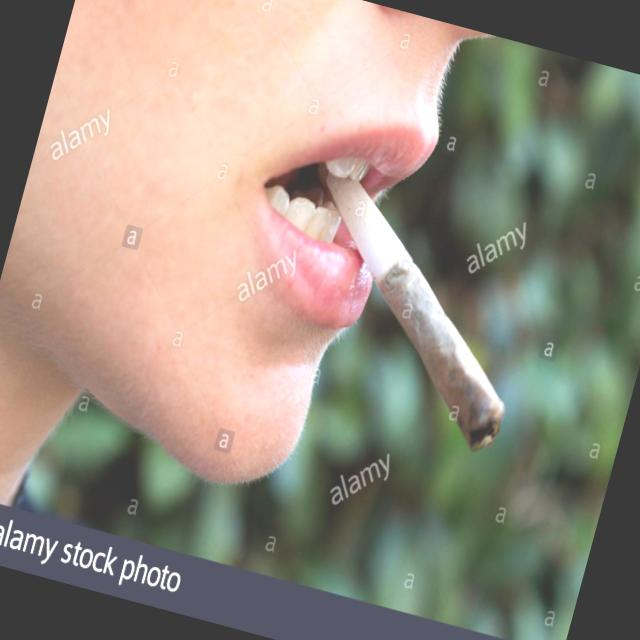smoke: (274, 175, 560, 466)
